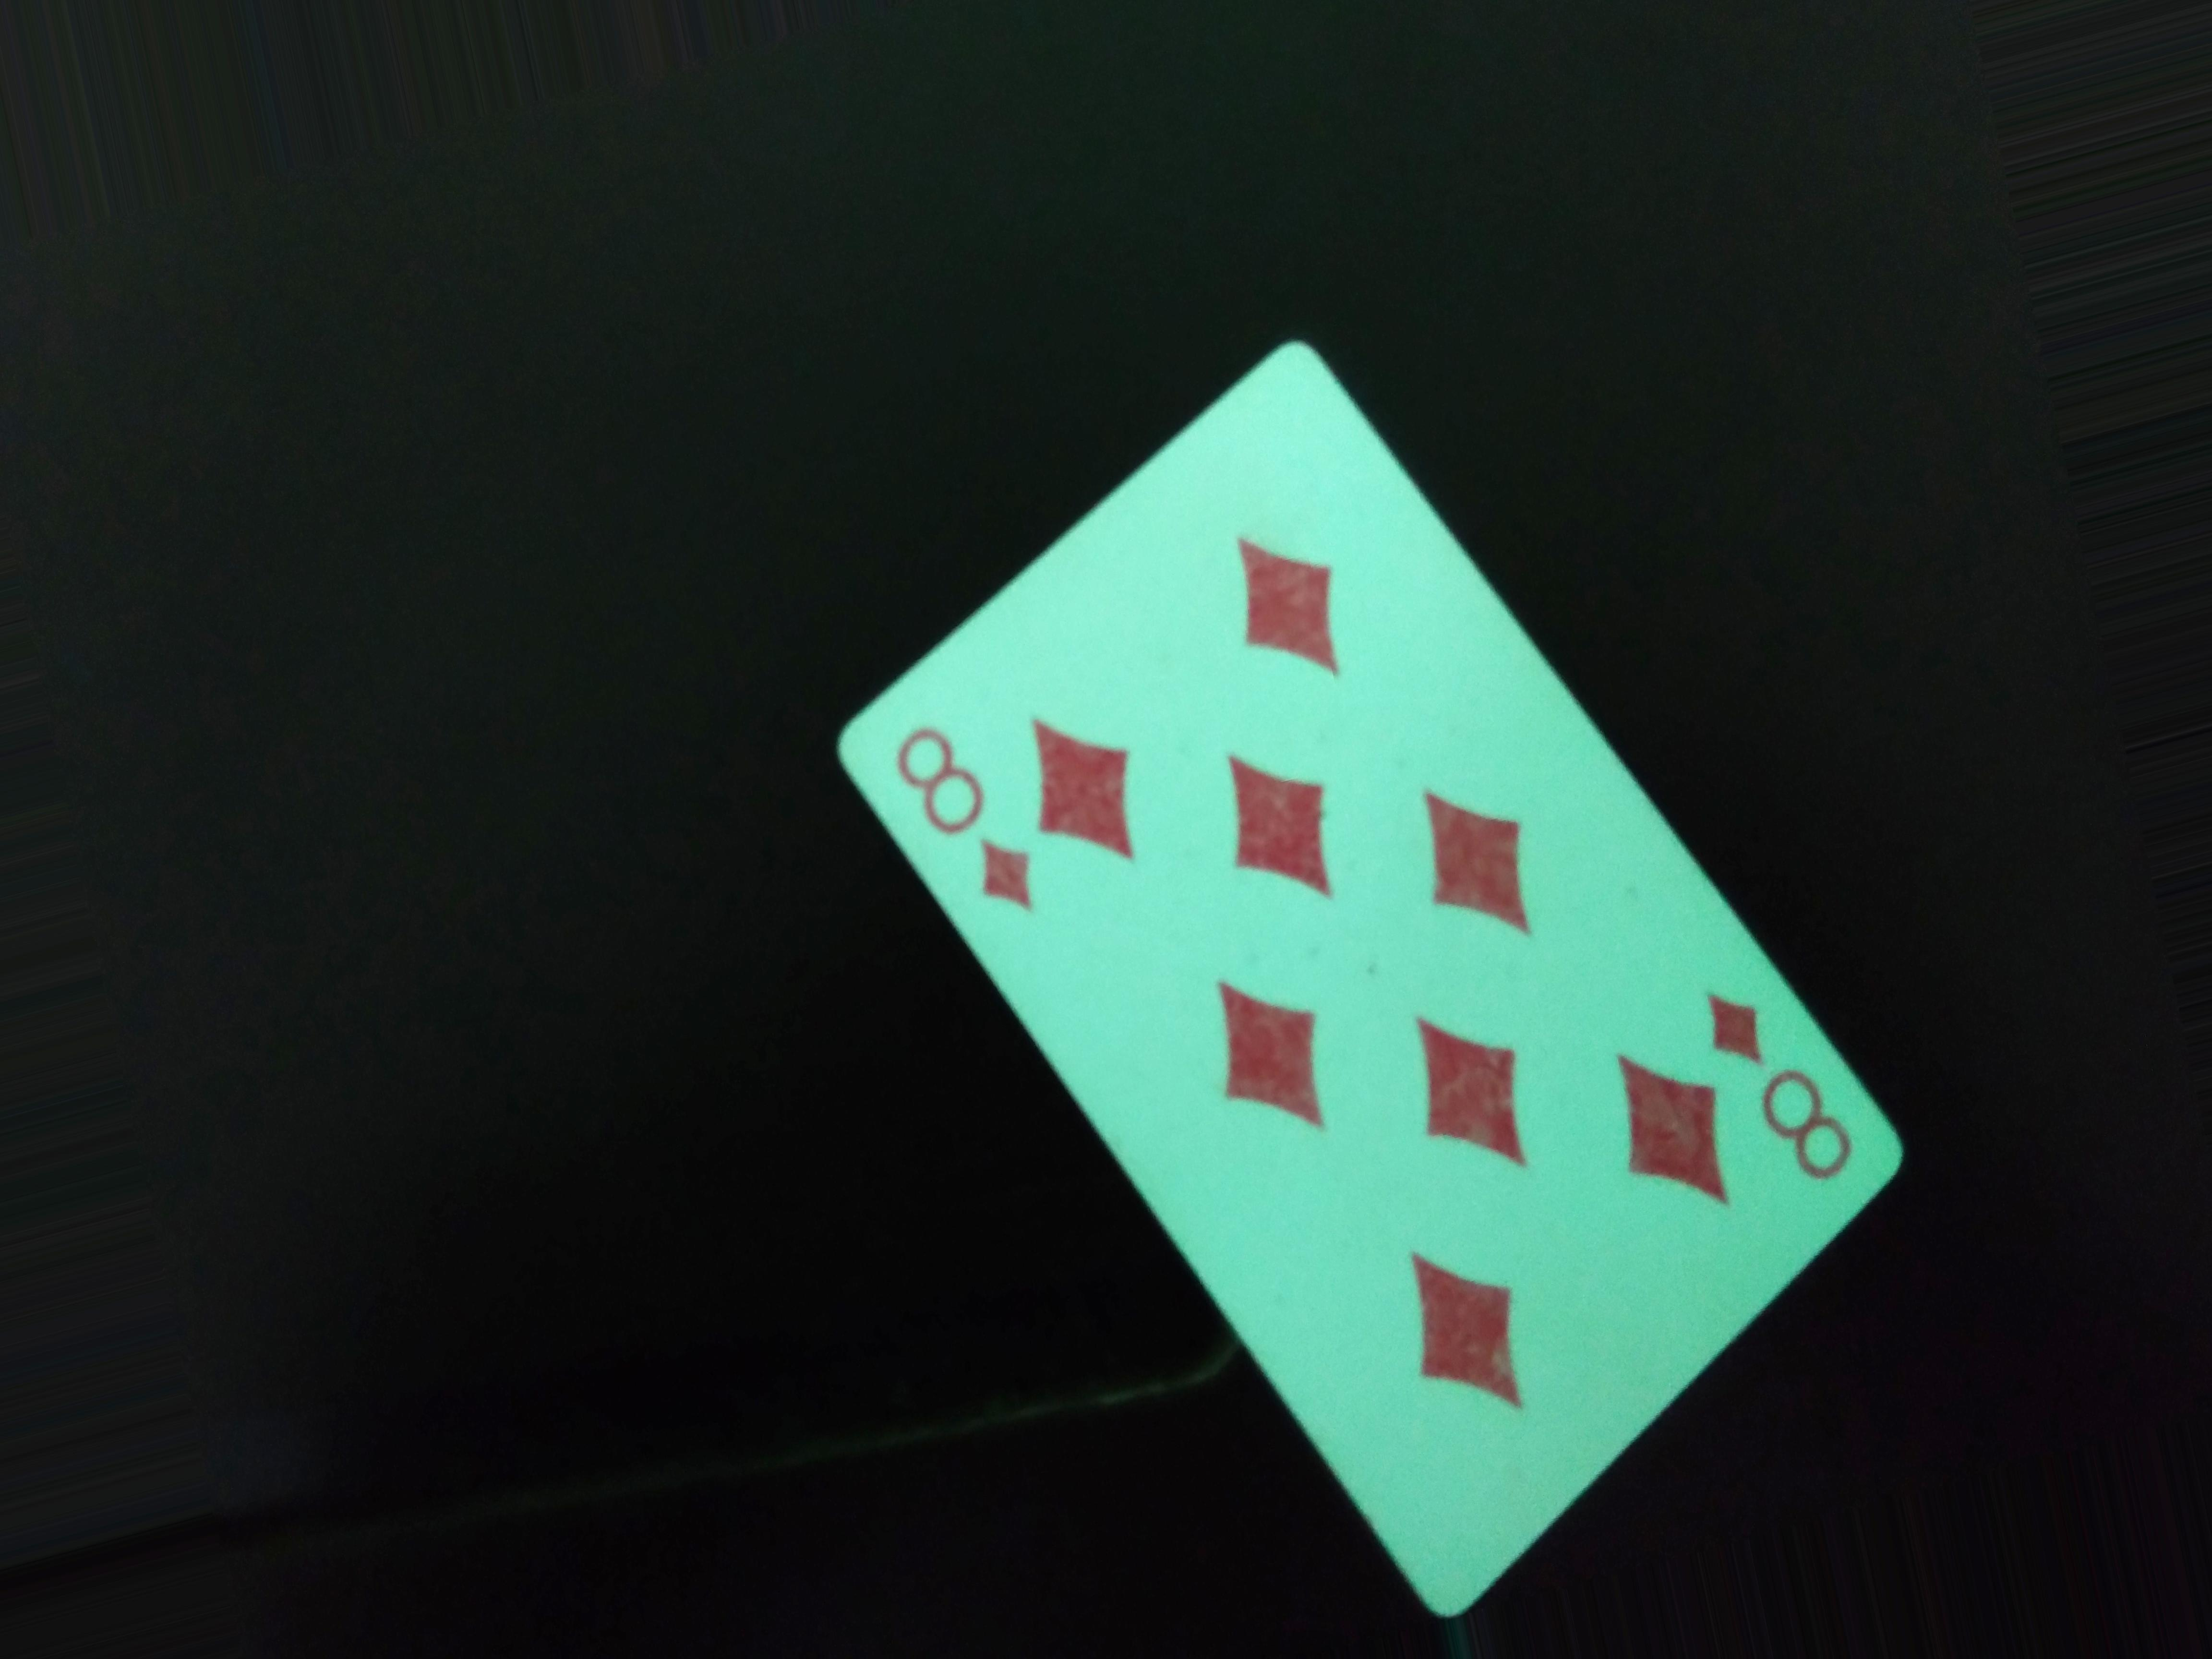8D: (1698, 979, 1872, 1216)
